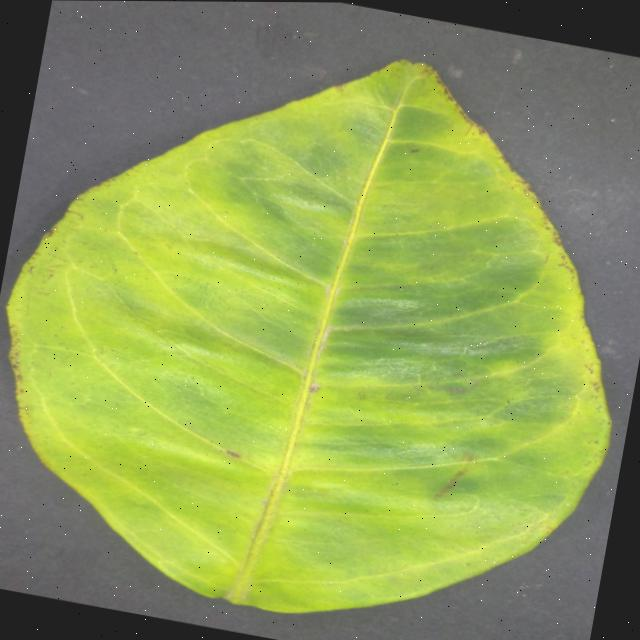greening: (8, 59, 609, 611)
